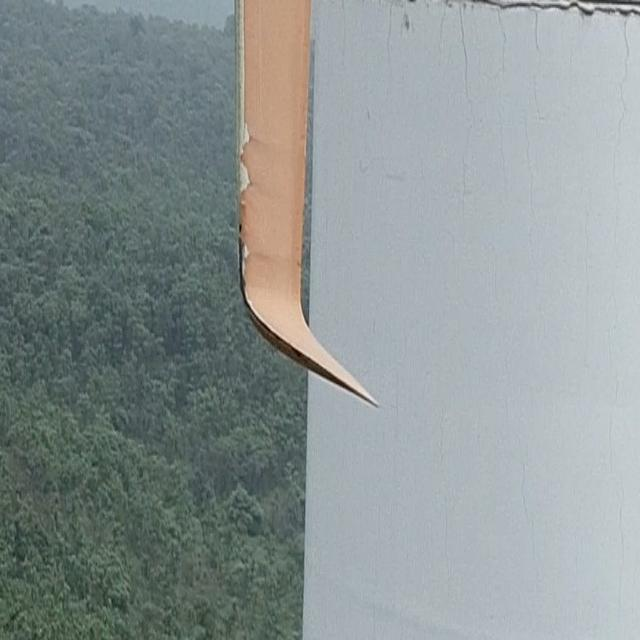EROSION: (230, 229, 281, 350), (230, 13, 256, 213)
